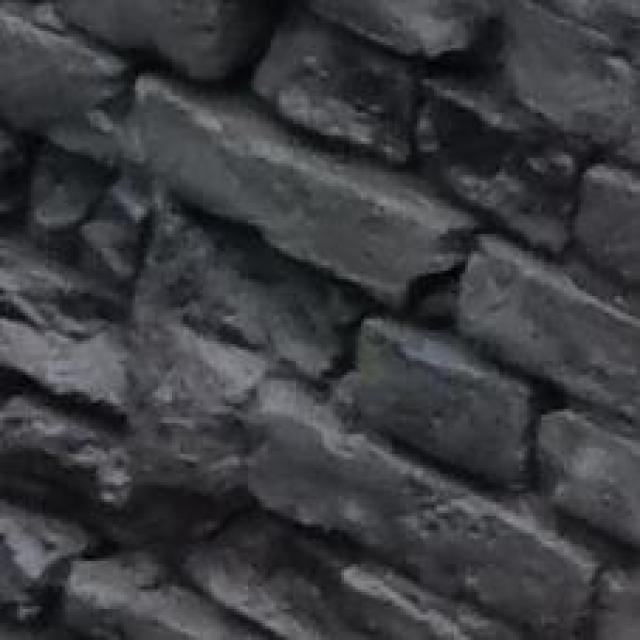Crack: (0, 107, 333, 637)
